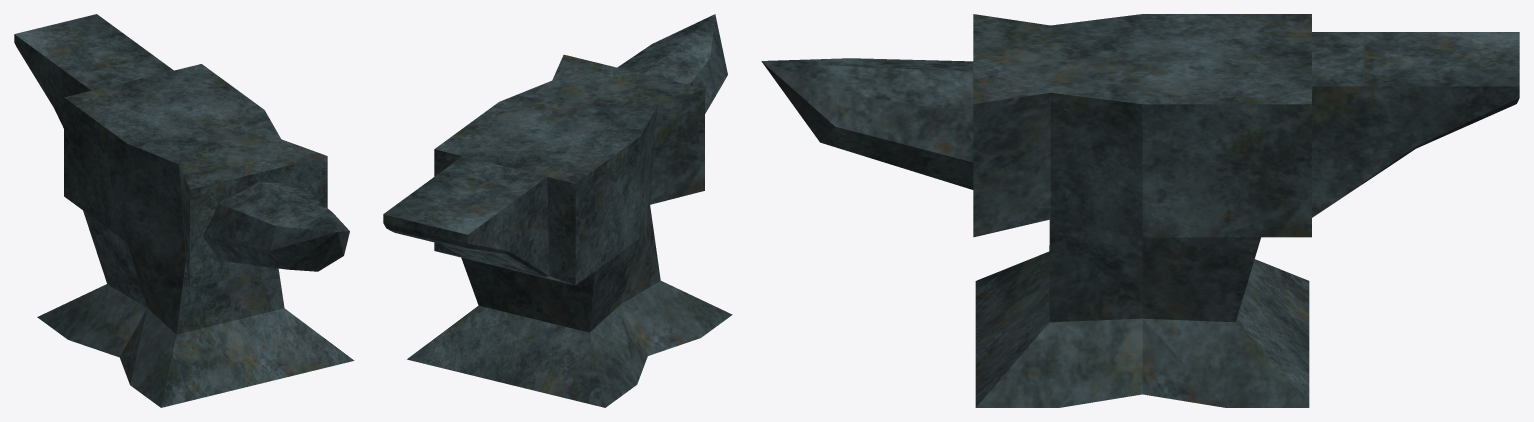
File: Bigorna_Basica.fbx
The picture shows the model from 3 angles, left to right: view 1: azimuth 30°, elevation 25°; view 2: azimuth 150°, elevation 25°; view 3: azimuth 270°, elevation 25°; orthographic projection. The views are drawn at different scales.
Parts seen in each view (by area): view 1: Bigorna; view 2: Bigorna; view 3: Bigorna.
Boxes of the visible parts, box(x1,y1,x2,y2) form: Bigorna: box(14, 14, 354, 407); Bigorna: box(383, 14, 732, 407); Bigorna: box(761, 14, 1519, 407).
Bounding box in the file's own units: 42.2 × 44.21 × 107.
Materials: 1 (1 with a texture image).
